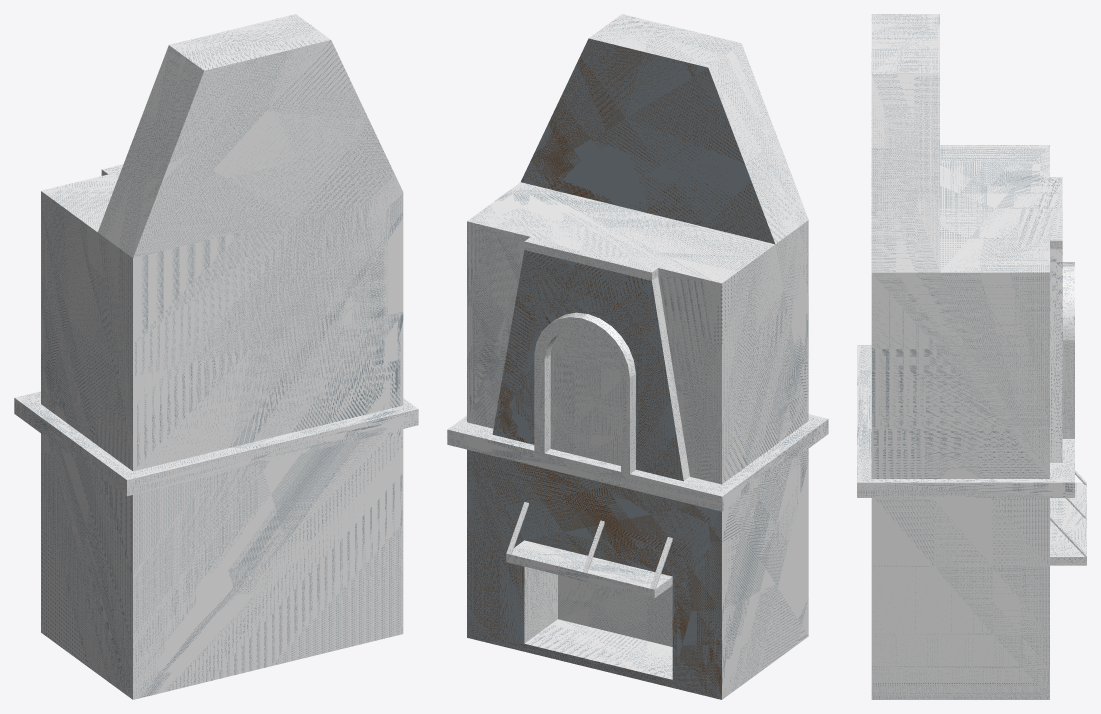
The model's file is firePlace.fbx.
3 views of the same model, side by side, from view 1: azimuth 30°, elevation 25°; view 2: azimuth 150°, elevation 25°; view 3: azimuth 270°, elevation 25° (orthographic). The views are drawn at different scales.
Parts seen in each view (by area): view 1: Model; view 2: Model; view 3: Model.
Part boxes in pixels (x1,y1,x2,y2): Model: (14, 14, 418, 699); Model: (447, 14, 828, 699); Model: (857, 14, 1086, 699).
Bounding box in the file's own units: 12.11 × 24.28 × 8.55.
